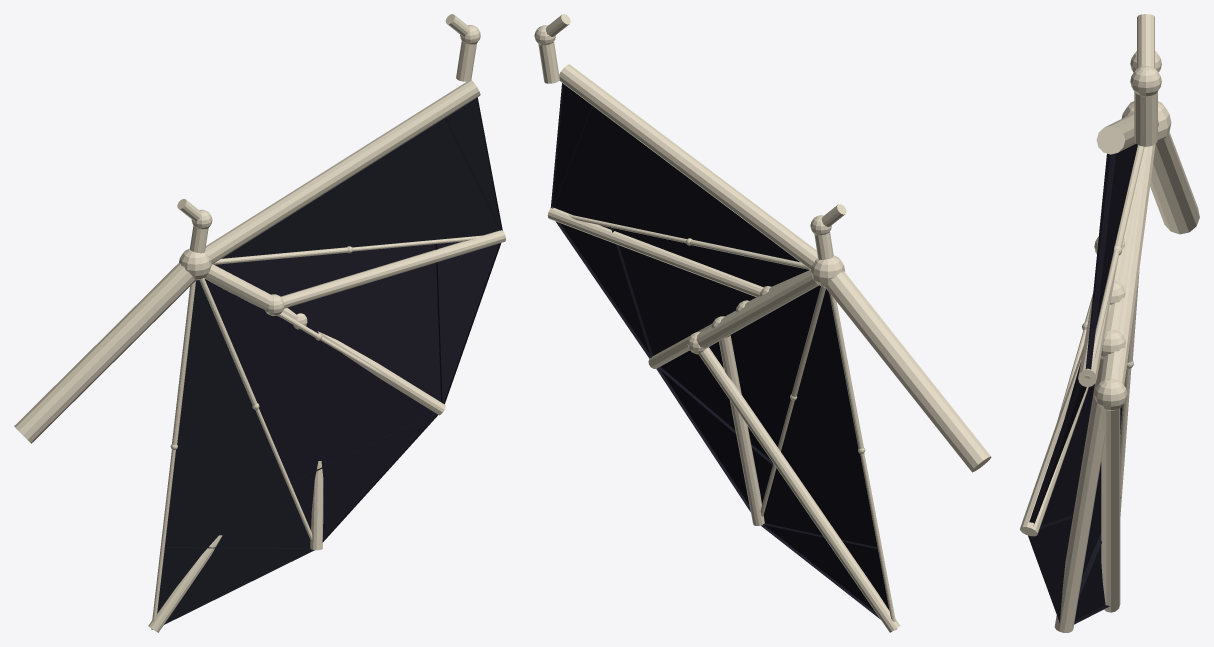
File: BoneWingRight.obj
The picture shows the model from 3 angles, left to right: view 1: azimuth 30°, elevation 25°; view 2: azimuth 150°, elevation 25°; view 3: azimuth 270°, elevation 25°; orthographic projection. The views are drawn at different scales.
Visible parts, largest first — view 1: BoneWingRight; view 2: BoneWingRight; view 3: BoneWingRight.
Boxes of the visible parts, left/top/right/bottom form: BoneWingRight: left=14, top=14, right=505, bottom=632; BoneWingRight: left=534, top=14, right=991, bottom=632; BoneWingRight: left=1020, top=14, right=1199, bottom=632.
Bounding box in the file's own units: 6.81 × 7.61 × 1.53.
